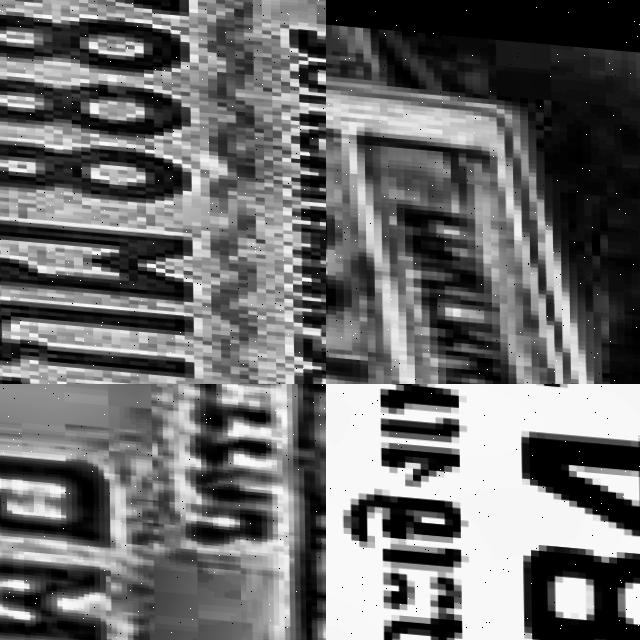license-plate: (0, 0, 326, 384), (326, 39, 640, 384), (0, 384, 326, 640), (326, 384, 640, 640)
